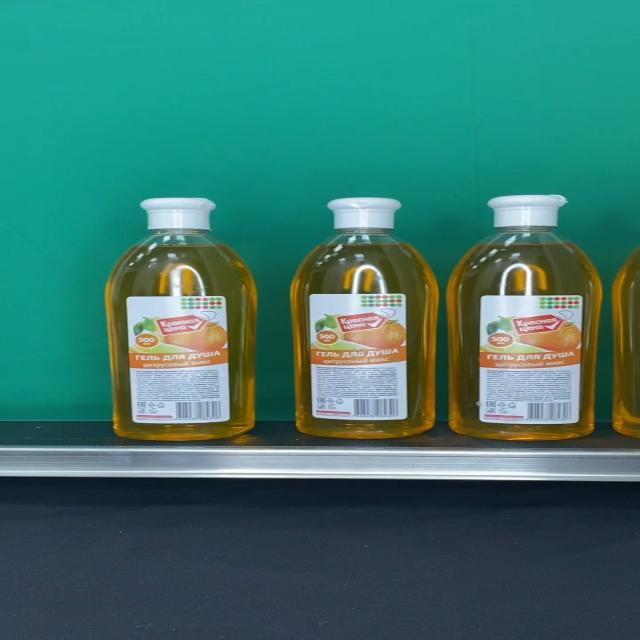Bottle: (447, 194, 602, 441), (105, 197, 257, 440), (290, 196, 440, 438)
Cap: (486, 194, 568, 228), (140, 197, 218, 230), (326, 197, 404, 230)
